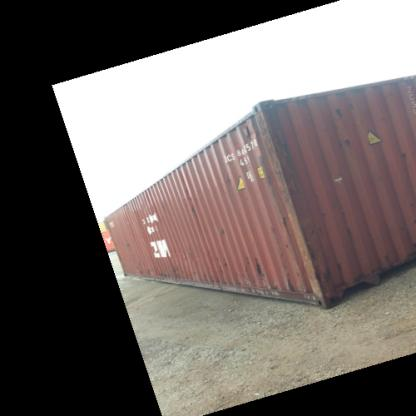Damage: (252, 104, 300, 211), (296, 222, 345, 295), (133, 258, 183, 280), (198, 259, 232, 286), (269, 214, 287, 258), (237, 251, 263, 279), (368, 247, 393, 274), (265, 273, 293, 294), (328, 95, 352, 116), (395, 143, 411, 174), (310, 192, 328, 216), (335, 126, 351, 148), (120, 236, 134, 252), (213, 224, 228, 237), (184, 200, 197, 212)
